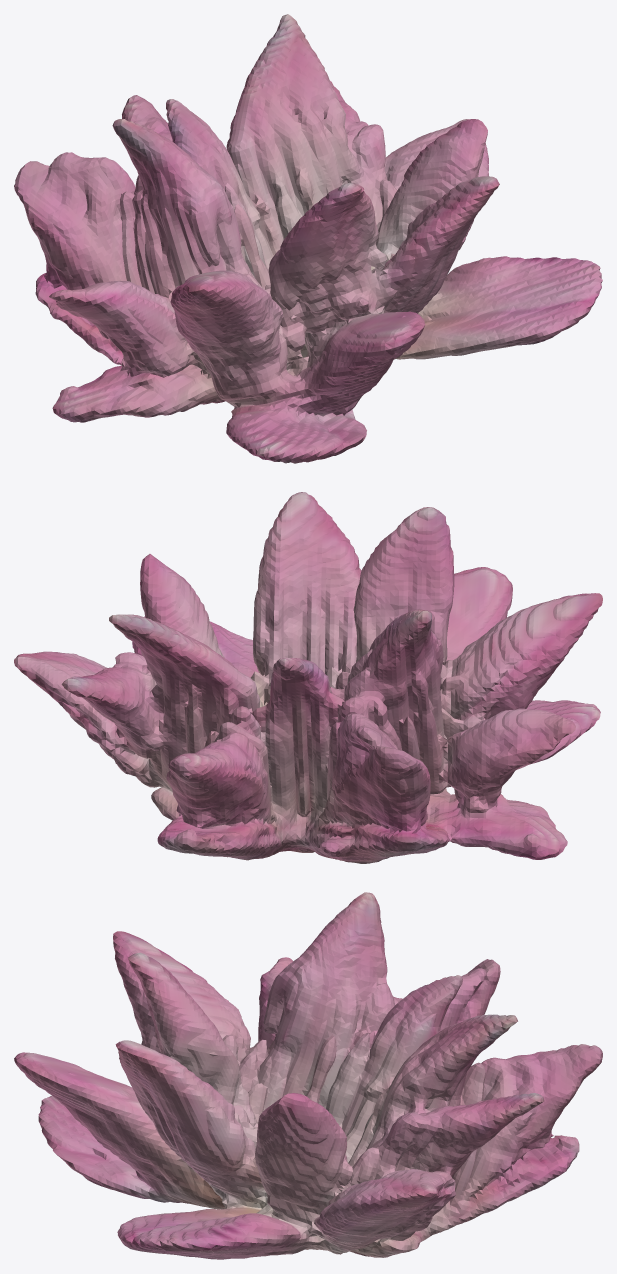
File: lotus.glb
The picture shows the model from 3 angles, top to bottom: view 1: azimuth 30°, elevation 25°; view 2: azimuth 150°, elevation 25°; view 3: azimuth 270°, elevation 25°; orthographic projection.
Parts seen in each view (by area): view 1: world; view 2: world; view 3: world.
Boxes of the visible parts, x1,y1,x2,y2 form: world: (14, 14, 602, 463); world: (14, 492, 602, 863); world: (14, 892, 602, 1259).
Bounding box in the file's own units: 0.849 × 0.4467 × 0.8875.
